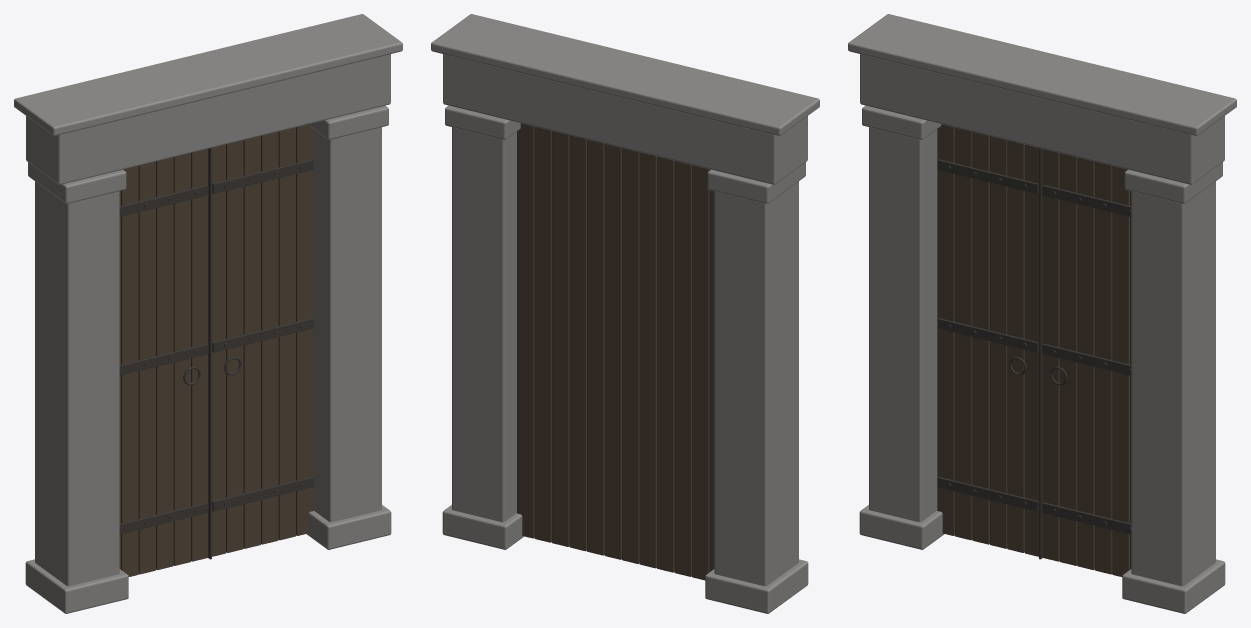
Rendered from DevKapi.fbx.
The picture shows the model from 3 angles, left to right: view 1: azimuth 30°, elevation 25°; view 2: azimuth 150°, elevation 25°; view 3: azimuth 330°, elevation 25°; orthographic projection.
Visible parts, largest first — view 1: DevKapi; view 2: DevKapi; view 3: DevKapi.
Boxes of the visible parts, left/top/right/bottom form: DevKapi: left=14, top=14, right=402, bottom=613; DevKapi: left=431, top=14, right=819, bottom=613; DevKapi: left=848, top=14, right=1236, bottom=613.
Size of the model in its own units: 6 by 8.02 by 1.2.
